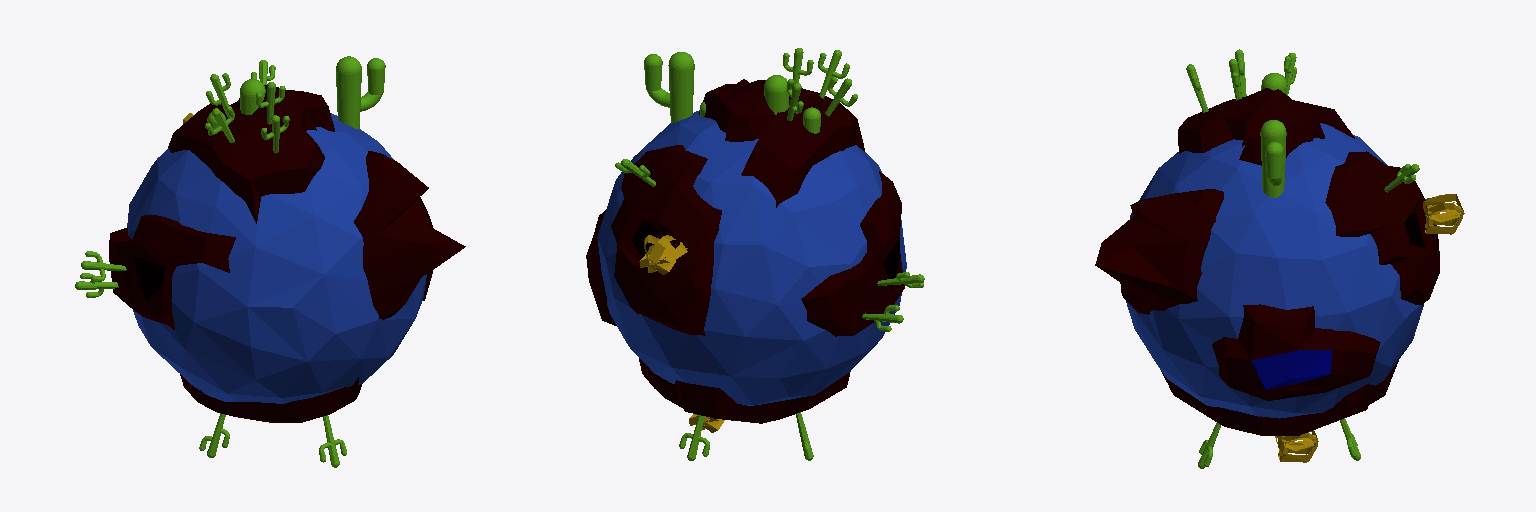
Rendered from RedPlanet.obj.
3 views of the same model, side by side, from view 1: azimuth 30°, elevation 25°; view 2: azimuth 150°, elevation 25°; view 3: azimuth 270°, elevation 25° (orthographic).
Visible parts, largest first — view 1: Sphere.001, Sphere, Circle_Circle.002, Circle.001_Circle.003, Circle.006_Circle.008, Circle.007_Circle.009, Circle.012_Circle.014; view 2: Sphere.001, Sphere, Circle_Circle.002, Circle.001_Circle.003, Circle.005_Circle.001, Circle.009_Circle.011, Circle.014_Circle.000, Circle.002_Circle.004; view 3: Sphere, Sphere.001, Circle_Circle.002, Circle.005_Circle.001, Circle.015_Circle.
Boxes of the visible parts, <box> form: Sphere.001: <box>127,113,426,403</box>; Sphere: <box>109,85,465,422</box>; Circle_Circle.002: <box>336,56,385,129</box>; Circle.001_Circle.003: <box>207,79,265,135</box>; Circle.006_Circle.008: <box>319,415,346,467</box>; Circle.007_Circle.009: <box>199,413,229,457</box>; Circle.012_Circle.014: <box>81,251,126,281</box>; Sphere.001: <box>597,110,906,405</box>; Sphere: <box>586,79,904,423</box>; Circle_Circle.002: <box>644,52,705,123</box>; Circle.001_Circle.003: <box>764,75,820,133</box>; Circle.005_Circle.001: <box>639,235,687,274</box>; Circle.009_Circle.011: <box>818,50,849,98</box>; Circle.014_Circle.000: <box>679,415,709,460</box>; Circle.002_Circle.004: <box>825,77,857,116</box>; Sphere: <box>1095,88,1439,435</box>; Sphere.001: <box>1126,123,1423,418</box>; Circle_Circle.002: <box>1260,120,1286,197</box>; Circle.005_Circle.001: <box>1423,194,1464,234</box>; Circle.015_Circle: <box>1275,430,1318,462</box>.
Size of the model in its own units: 49.53 by 55.22 by 47.99.